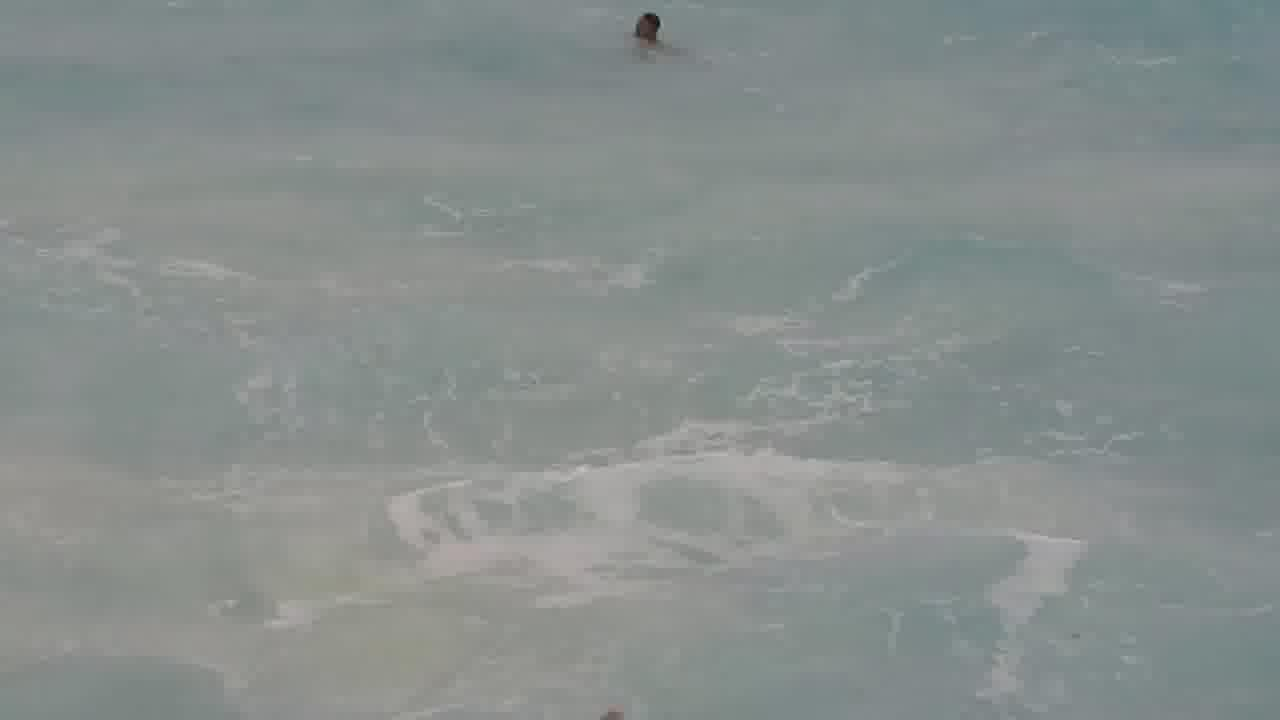swimmer: (613, 4, 679, 61)
